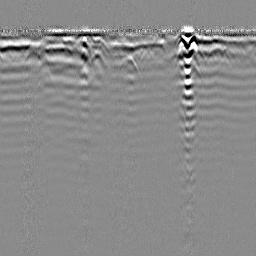cavity: (117, 52, 139, 73)
